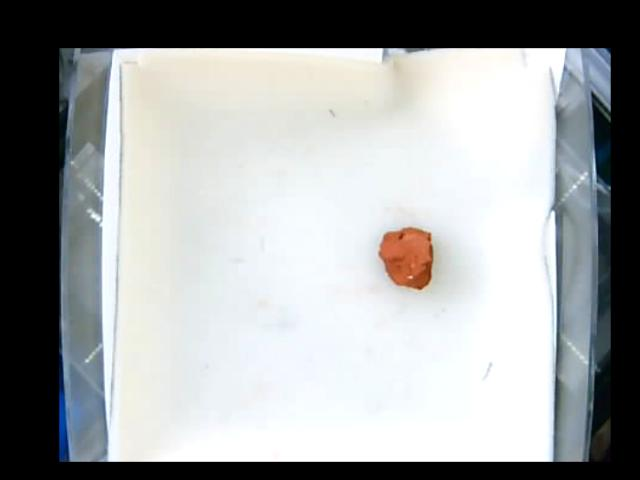Brisk: (379, 226, 434, 292)
